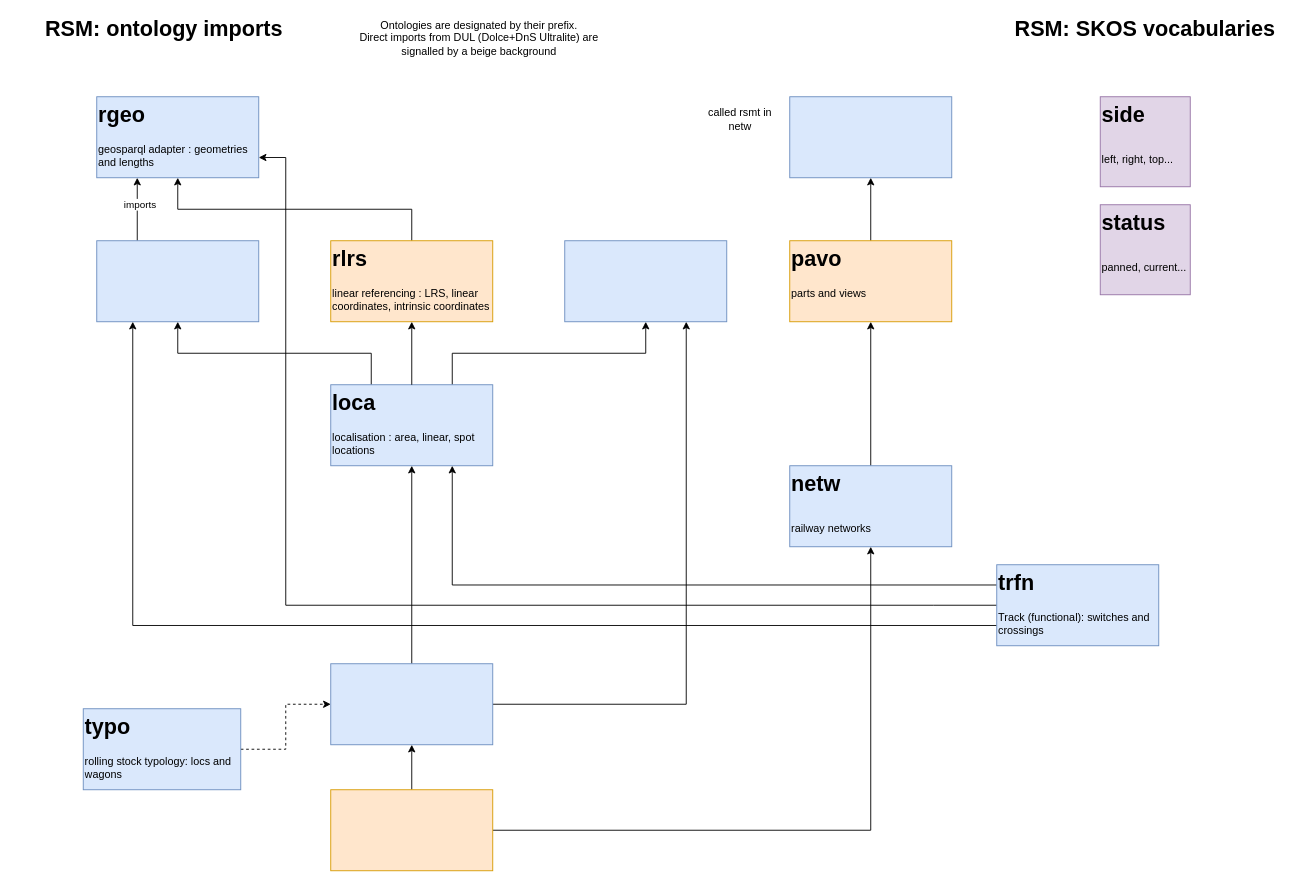
Image size: 1309x888. Some labels were removed from this diagram. The shapes that lost their labels are listed below. From the top down, each one's box as (x1, y1, x2, y2) in pixels, then its label:
(789, 96, 952, 178): rtim time interval, validity interval
(96, 240, 259, 322): topo topology : linear elements, ports, navigabilties...
(564, 240, 727, 322): list linked list ontology (list2.ttl)
(330, 663, 493, 745): cons train consists: vehicles and formations
(330, 789, 493, 871): rope train operations
